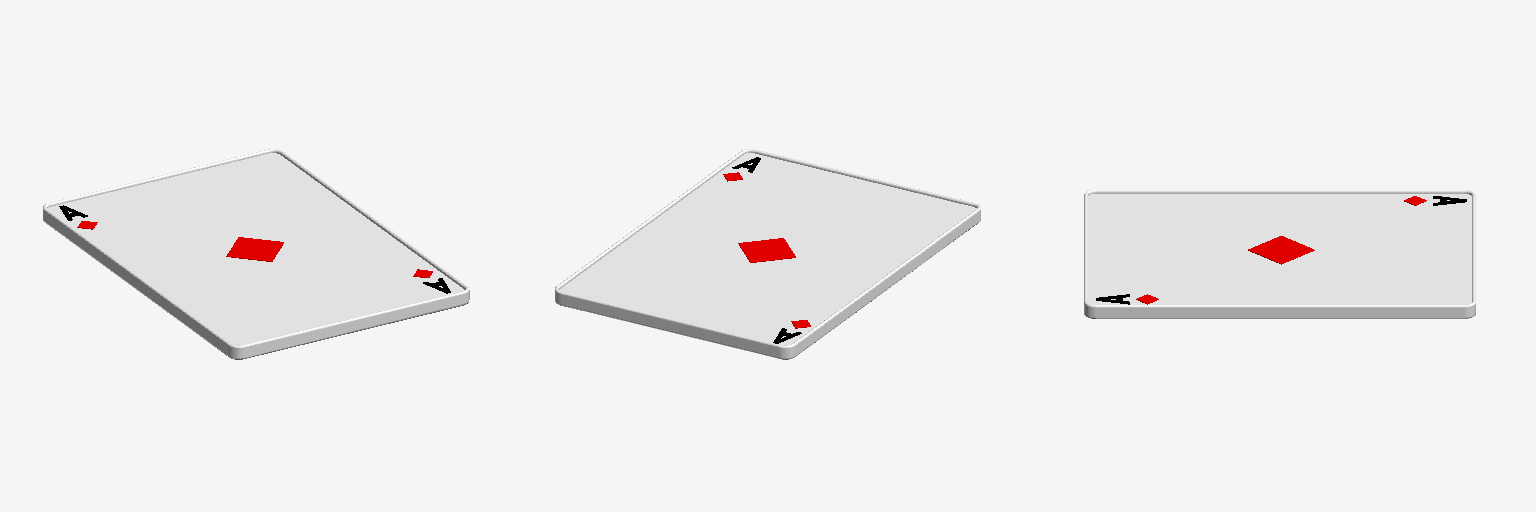
File: diamonds_1.obj
3 renders of one model, left to right at view 1: azimuth 30°, elevation 25°; view 2: azimuth 150°, elevation 25°; view 3: azimuth 270°, elevation 25°, orthographic.
Parts seen in each view (by area): view 1: rect4266.022, rect4266.076, path4884-1-7.006, rect4266.110; view 2: rect4266.022, rect4266.076, path4884-1-7.006; view 3: rect4266.022, rect4266.076, path4884-1-7.006.
Part boxes in pixels (x1,y1,x2,y2): rect4266.022: (47, 153, 464, 344); rect4266.076: (43, 149, 469, 358); path4884-1-7.006: (226, 237, 283, 261); rect4266.110: (46, 223, 468, 359); rect4266.022: (559, 153, 976, 344); rect4266.076: (555, 149, 980, 358); path4884-1-7.006: (738, 238, 795, 262); rect4266.022: (1088, 194, 1471, 304); rect4266.076: (1084, 190, 1475, 318); path4884-1-7.006: (1248, 236, 1314, 264).
Size of the model in its own units: 2.88 by 0.1966 by 4.08.